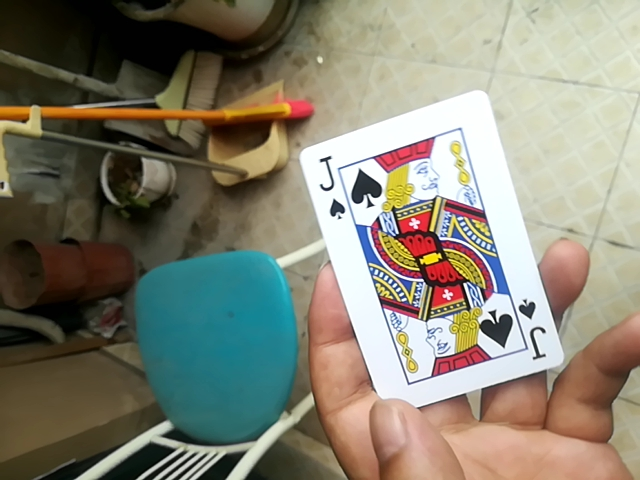ht j: (290, 89, 563, 406)
